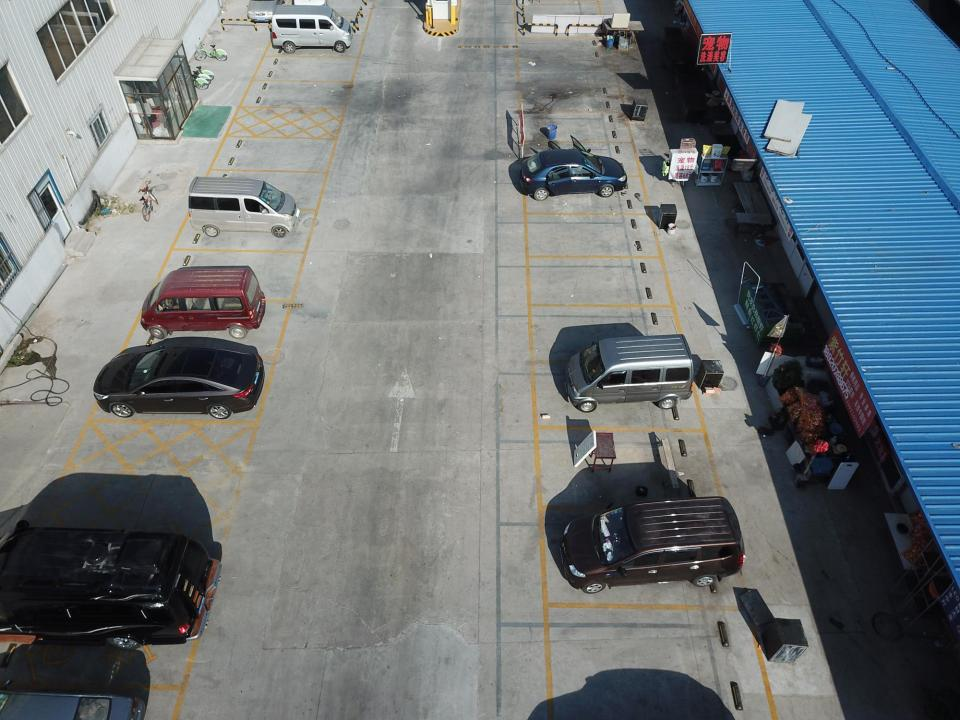car: (0, 531, 222, 645), (562, 494, 746, 593), (94, 334, 266, 417), (518, 136, 627, 202)
van: (138, 264, 270, 338), (560, 337, 695, 409), (188, 175, 301, 236), (270, 7, 354, 52)
